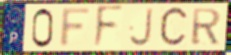0: (31, 7, 55, 49)
C: (158, 5, 191, 50)
F: (91, 4, 125, 51), (58, 6, 94, 49)
J: (128, 6, 154, 48)
R: (190, 8, 223, 47)
